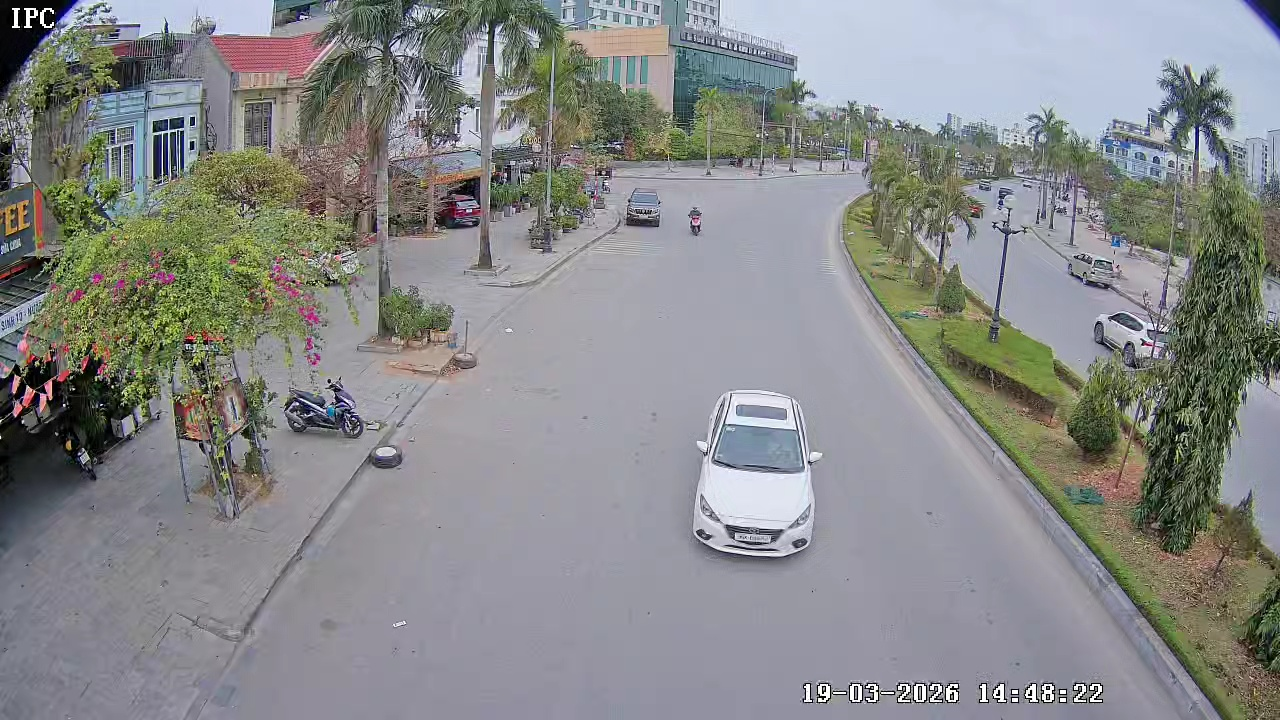car: (690, 388, 824, 557), (1092, 308, 1166, 365), (1068, 250, 1122, 289), (623, 186, 664, 227)
motorbike: (283, 373, 366, 438), (687, 204, 704, 236)
